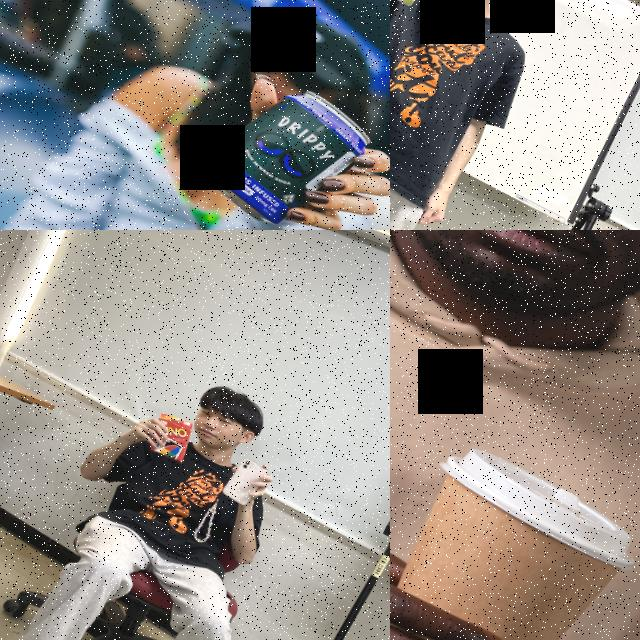can: (188, 59, 379, 230)
cup: (390, 429, 640, 640)
